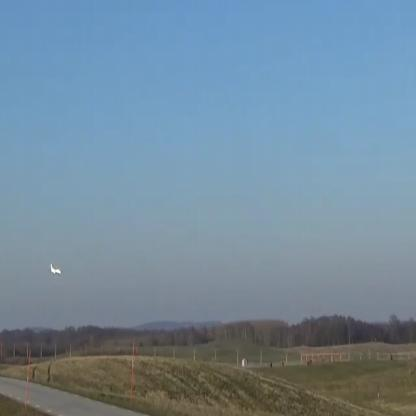CIV_Plane: (48, 262, 62, 276)
